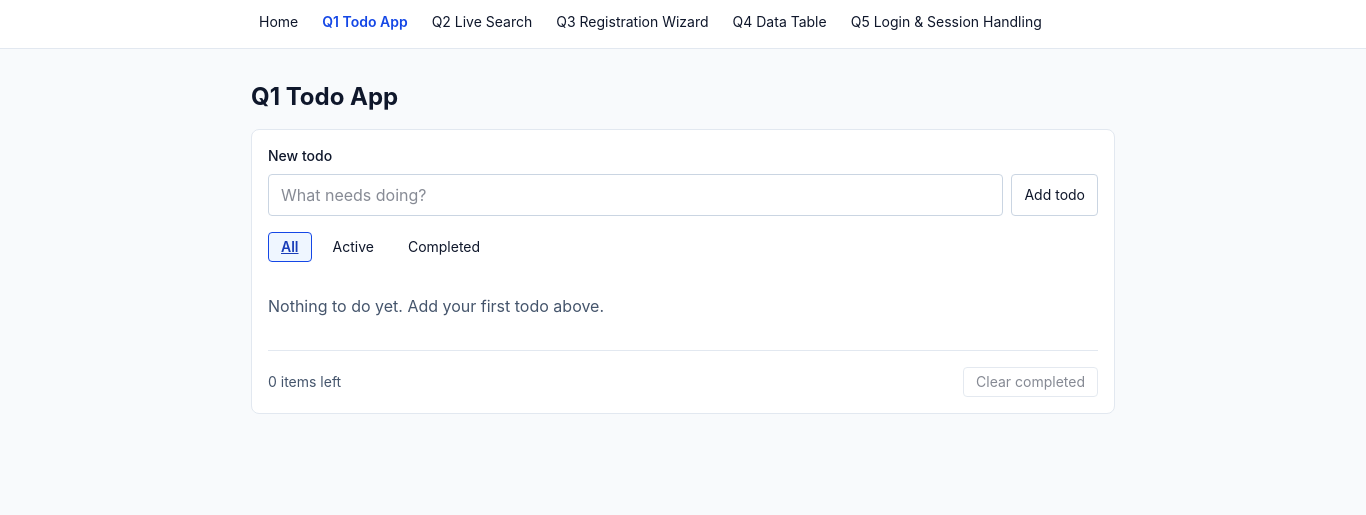
todo page: filters, count and clearing › counts the active todos as the list changes
The image size is (1366, 515).
Type "Buy milk" into the field labelled "New todo" at {"x": 636, "y": 195}, box [268,174,1004,216]
Click the button "Add todo" at {"x": 1055, "y": 195}, box [1012,174,1098,216]
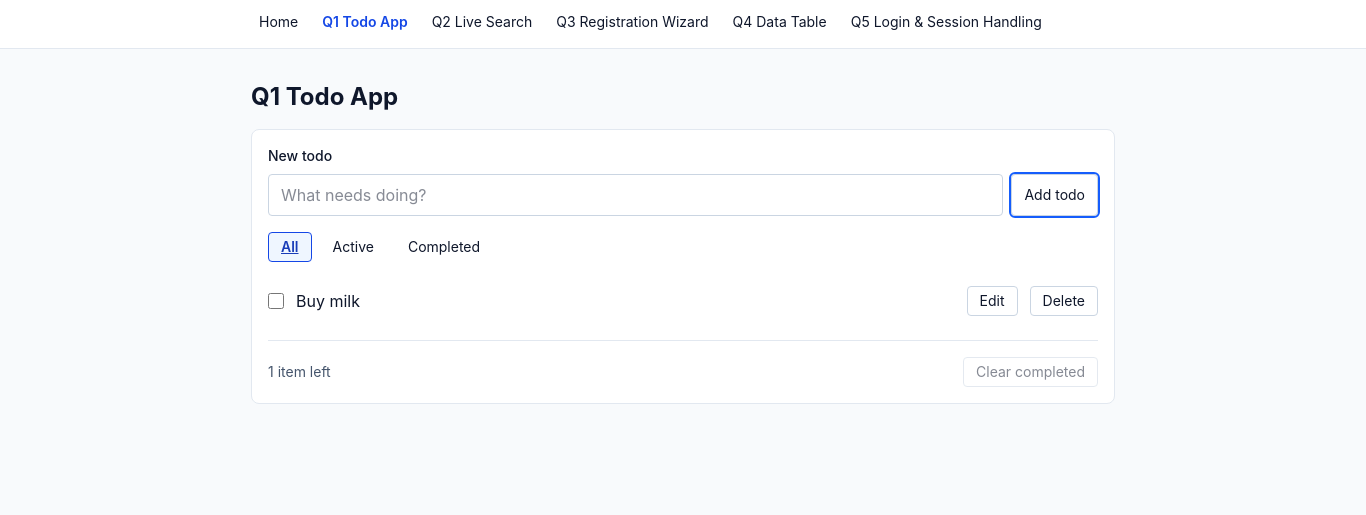
Check: the message reads "1 item left", box [268,363,331,380]
Type "Walk the dog" into the field labelled "New todo" at {"x": 636, "y": 195}, box [268,174,1004,216]
Click the button "Add todo" at {"x": 1055, "y": 195}, box [1012,174,1098,216]
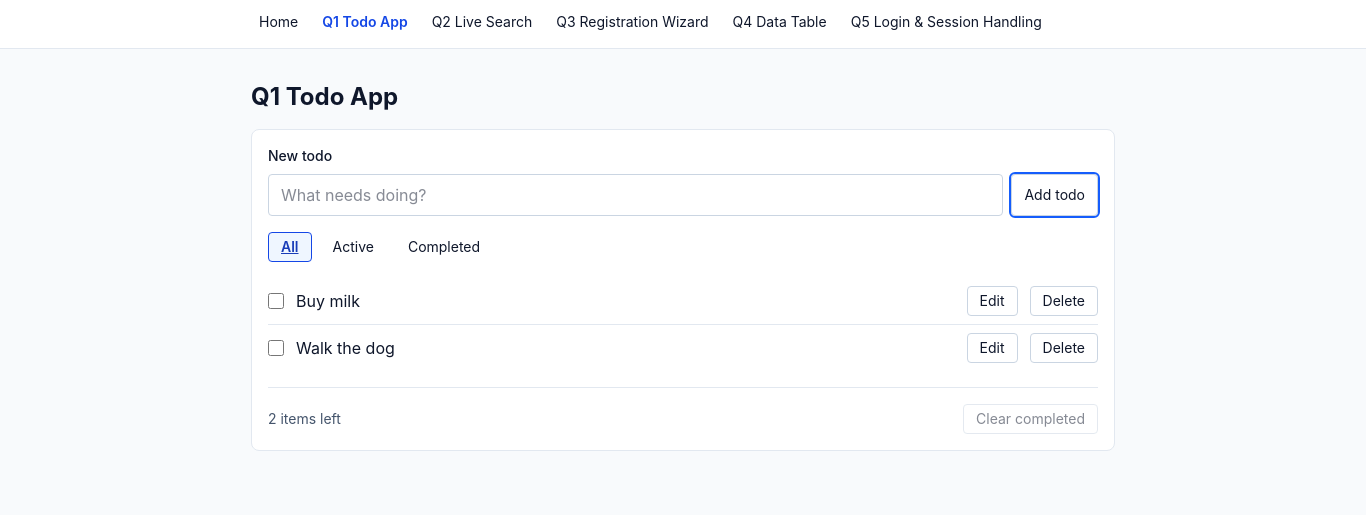
Type "Read a book" into the field labelled "New todo" at {"x": 636, "y": 195}, box [268,174,1004,216]
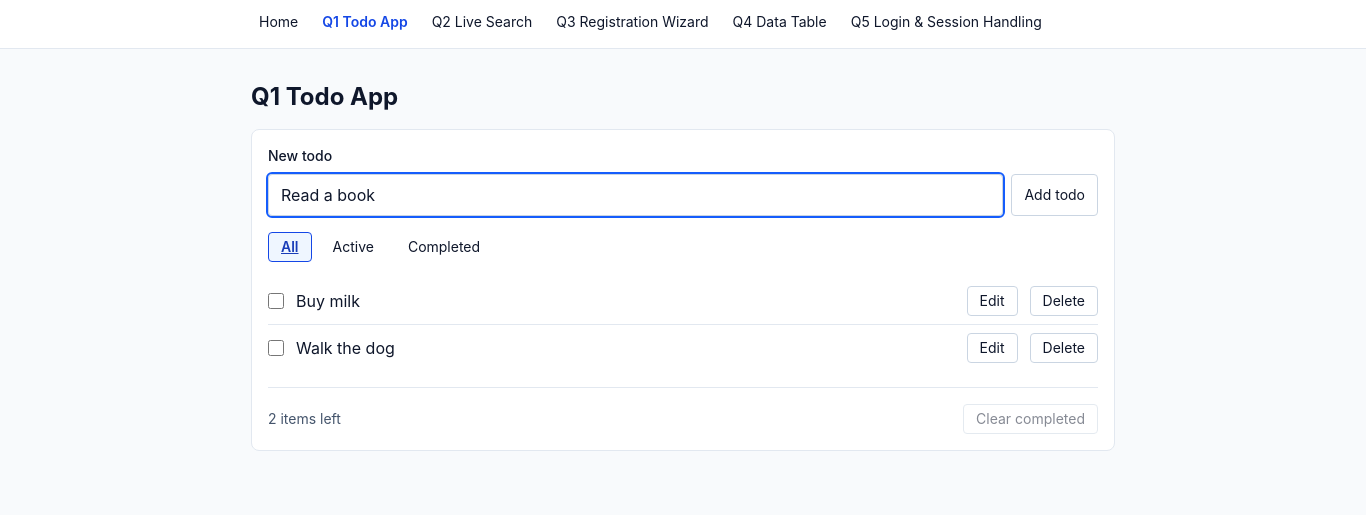
Click the button "Add todo" at {"x": 1055, "y": 195}, box [1012,174,1098,216]
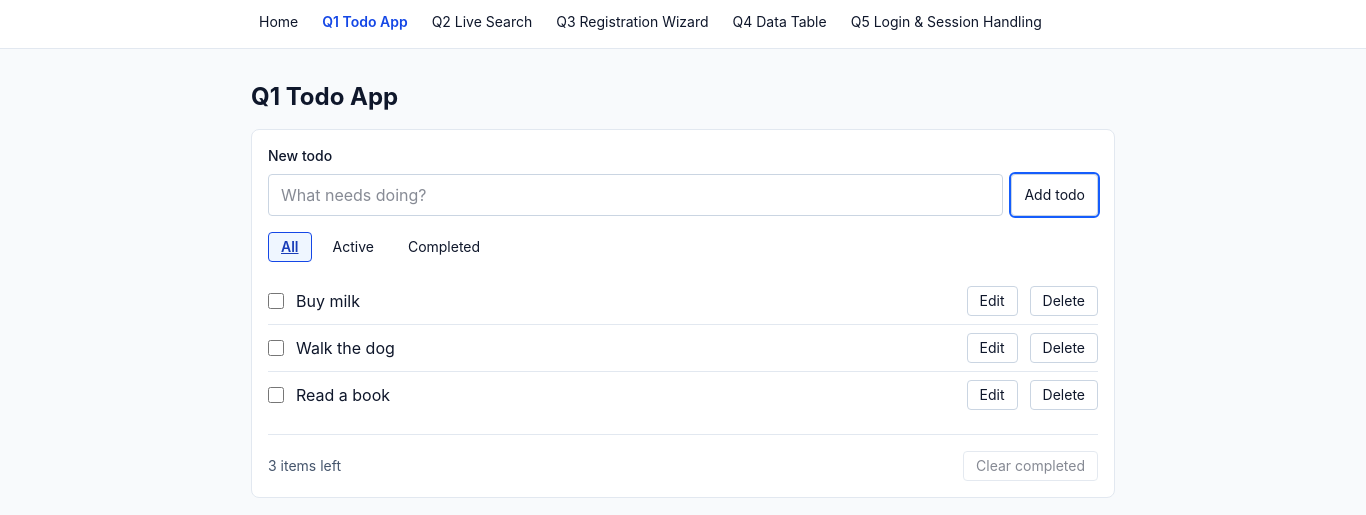
Check: the message reads "3 items left", box [268,457,341,474]
Click the checkbox labelled "Walk the dog" at {"x": 276, "y": 348}, box [268,340,284,356]
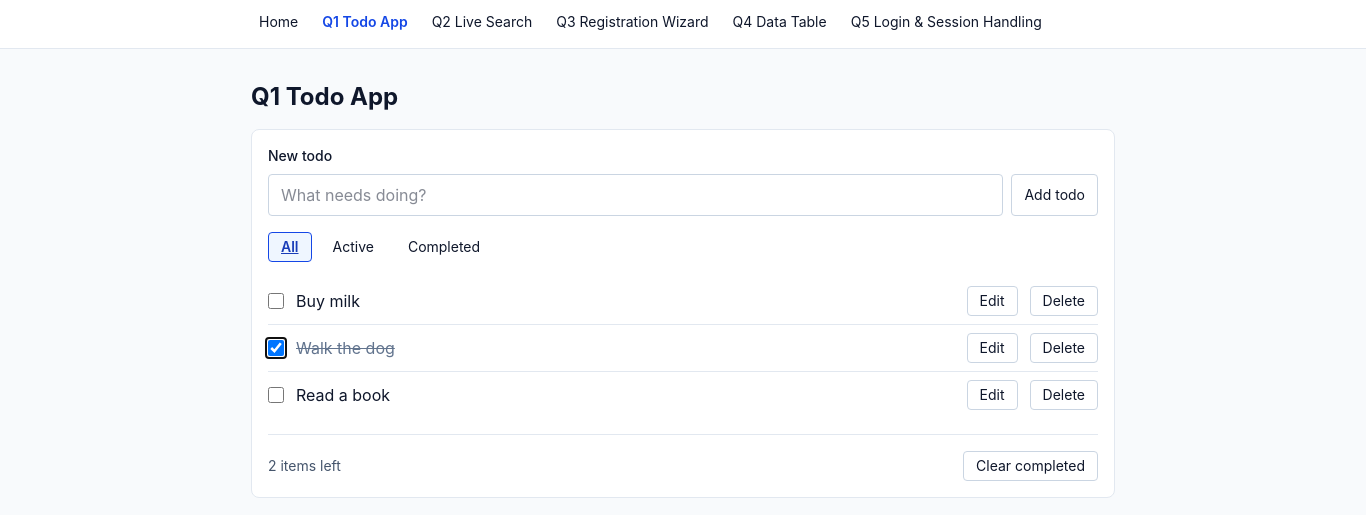
Check: the message reads "2 items left", box [268,457,341,474]
Click the button with aria-label "Delete Buy milk" at {"x": 1064, "y": 301}, box [1030,286,1098,316]
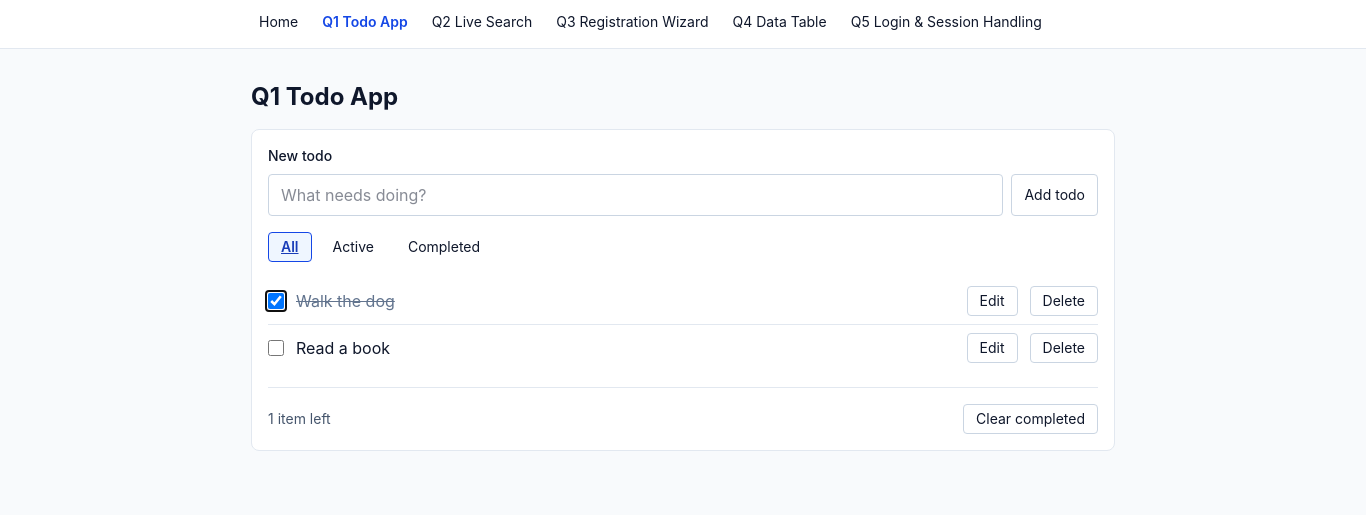
Check: the message reads "1 item left", box [268,410,331,427]
